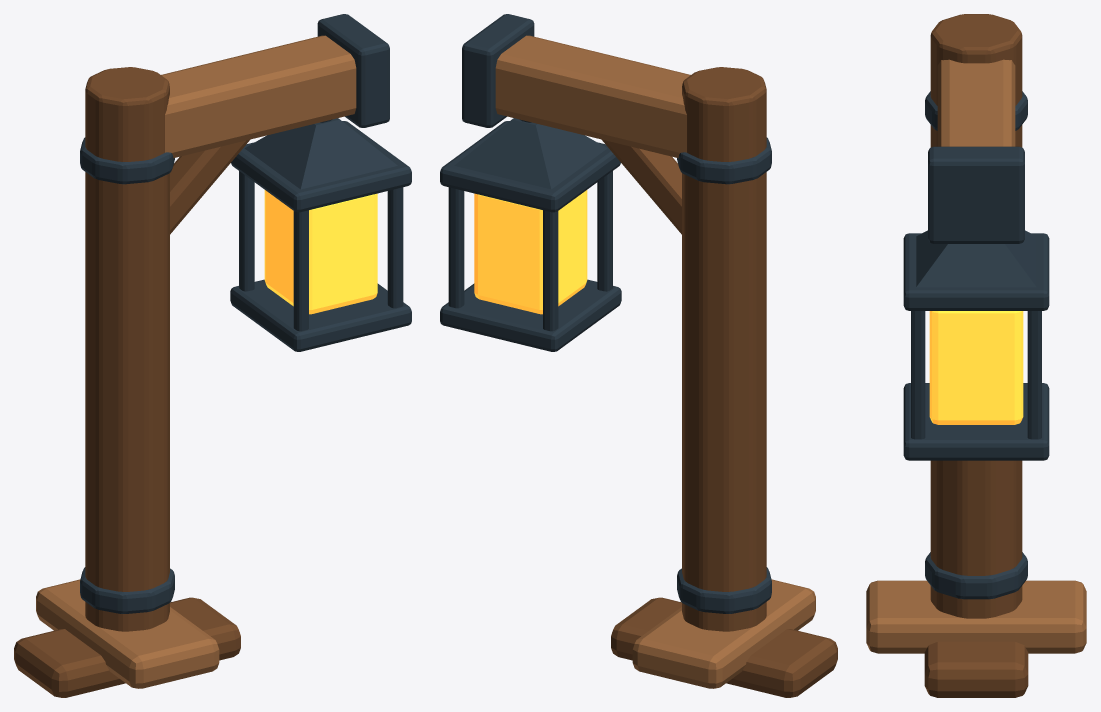
Rendered from stylized_mine_lamp.glb.
3 views of the same model, side by side, from view 1: azimuth 30°, elevation 25°; view 2: azimuth 150°, elevation 25°; view 3: azimuth 270°, elevation 25° (orthographic). The views are drawn at different scales.
Parts seen in each view (by area): view 1: Main_Wood_Post, Lamp_Arm, Lantern_Glow_Core, Base_Foot_Y, Base_Foot_X, Lantern_Roof, Lantern_Frame_Bottom, Lantern_Frame_Top, Arm_End_Cap, Diagonal_Brace, Post_Iron_Band_0.58, Post_Iron_Band_3.72 (+3 smaller); view 2: Main_Wood_Post, Lamp_Arm, Lantern_Glow_Core, Base_Foot_Y, Base_Foot_X, Lantern_Roof, Lantern_Frame_Bottom, Lantern_Frame_Top, Arm_End_Cap, Diagonal_Brace, Post_Iron_Band_0.58, Post_Iron_Band_3.72 (+3 smaller); view 3: Main_Wood_Post, Base_Foot_Y, Lantern_Glow_Core, Arm_End_Cap, Lamp_Arm, Lantern_Frame_Bottom, Base_Foot_X, Lantern_Roof, Lantern_Frame_Top, Post_Iron_Band_0.58, Lantern_Frame_V.002, Lantern_Frame_V.003 (+1 smaller).
Boxes of the visible parts, <box> form: Main_Wood_Post: <box>85,67,169,631</box>; Lamp_Arm: <box>161,35,356,158</box>; Lantern_Glow_Core: <box>264,190,377,314</box>; Base_Foot_Y: <box>36,579,219,688</box>; Base_Foot_X: <box>14,597,240,697</box>; Lantern_Roof: <box>244,118,397,189</box>; Lantern_Frame_Bottom: <box>230,279,411,351</box>; Lantern_Frame_Top: <box>231,121,411,212</box>; Arm_End_Cap: <box>317,14,389,127</box>; Diagonal_Brace: <box>170,139,250,234</box>; Post_Iron_Band_0.58: <box>80,567,174,613</box>; Post_Iron_Band_3.72: <box>80,137,174,184</box>; Main_Wood_Post: <box>682,67,766,631</box>; Lamp_Arm: <box>495,35,690,158</box>; Lantern_Glow_Core: <box>474,190,587,314</box>; Base_Foot_Y: <box>632,579,815,688</box>; Base_Foot_X: <box>611,597,837,697</box>; Lantern_Roof: <box>454,118,607,189</box>; Lantern_Frame_Bottom: <box>440,279,621,351</box>; Lantern_Frame_Top: <box>440,121,620,212</box>; Arm_End_Cap: <box>462,14,534,127</box>; Diagonal_Brace: <box>601,139,681,234</box>; Post_Iron_Band_0.58: <box>677,567,771,613</box>; Post_Iron_Band_3.72: <box>677,137,771,184</box>; Main_Wood_Post: <box>930,14,1022,618</box>; Base_Foot_Y: <box>866,580,1086,653</box>; Lantern_Glow_Core: <box>929,311,1023,424</box>; Arm_End_Cap: <box>928,146,1024,243</box>; Lamp_Arm: <box>937,59,1015,146</box>; Lantern_Frame_Bottom: <box>903,383,1049,460</box>; Base_Foot_X: <box>924,641,1028,697</box>; Lantern_Roof: <box>916,230,1036,287</box>; Lantern_Frame_Top: <box>903,233,1049,310</box>; Post_Iron_Band_0.58: <box>925,552,1027,599</box>; Lantern_Frame_V.002: <box>911,311,925,439</box>; Lantern_Frame_V.003: <box>1027,311,1041,439</box>.
Size of the model in its own units: 2.65 by 4.25 by 1.36.
